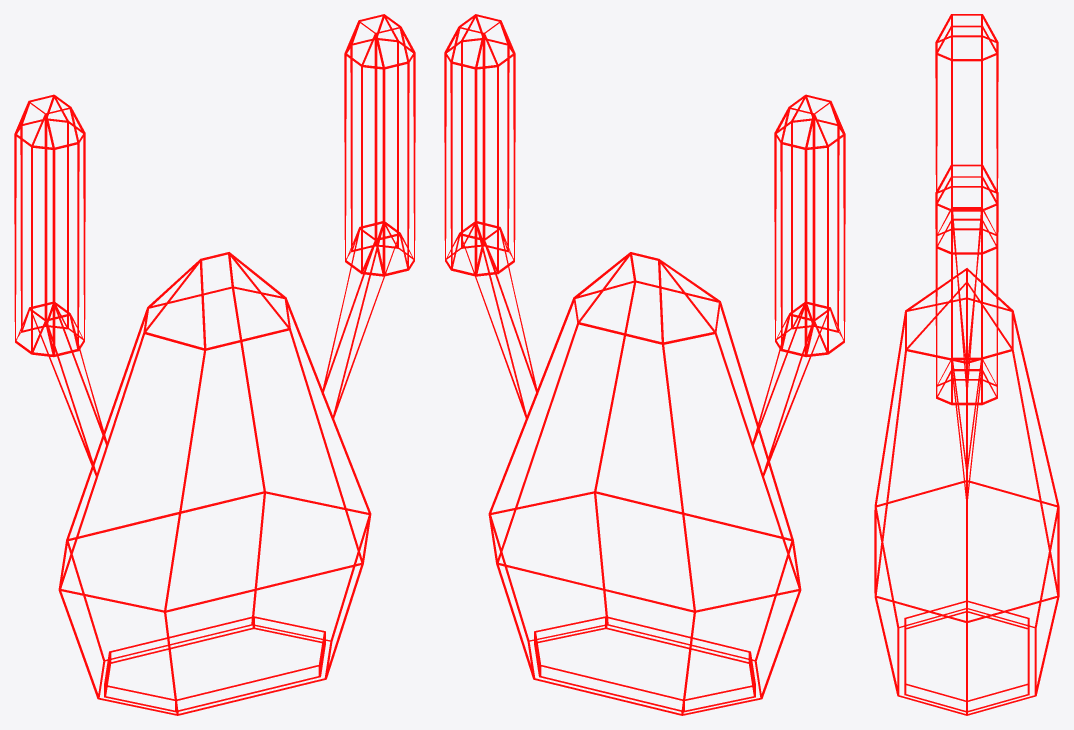
File: ennemi 1_wireframe.fbx
The picture shows the model from 3 angles, left to right: view 1: azimuth 30°, elevation 25°; view 2: azimuth 150°, elevation 25°; view 3: azimuth 270°, elevation 25°; orthographic projection. The views are drawn at different scales.
Parts seen in each view (by area): view 1: Cube; view 2: Cube; view 3: Cube.
Boxes of the visible parts, <box> form: Cube: <box>14,14,415,715</box>; Cube: <box>444,14,845,715</box>; Cube: <box>874,14,1059,715</box>.
Size of the model in its own units: 341 by 513 by 152.
